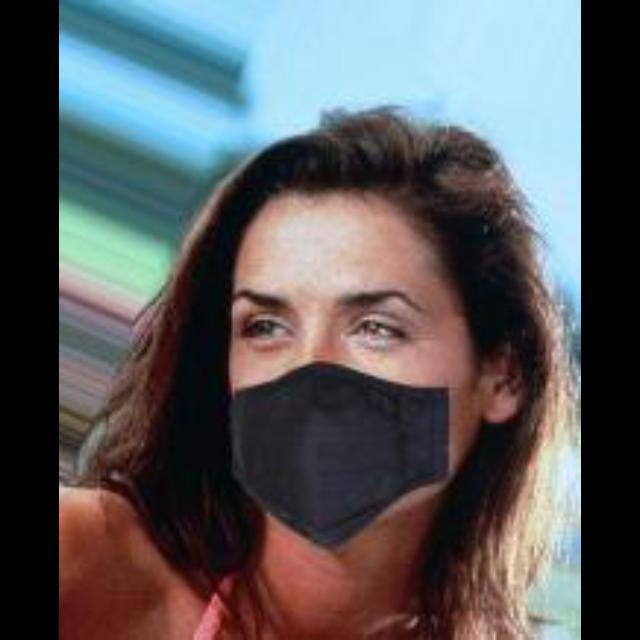suspicion: (178, 126, 556, 540)
